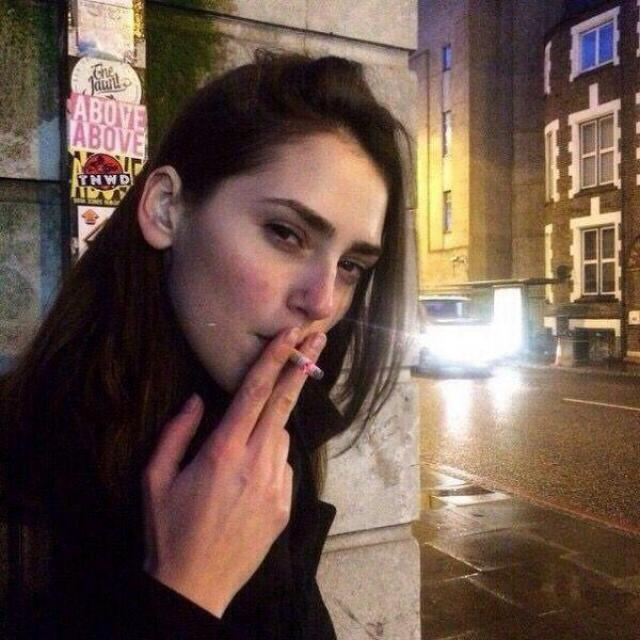cigarette: (250, 319, 336, 384)
